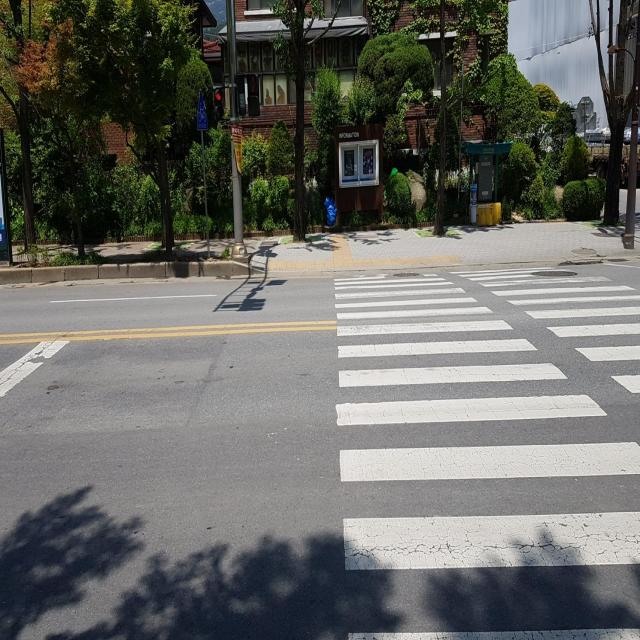횡단보도: (332, 266, 640, 640)
